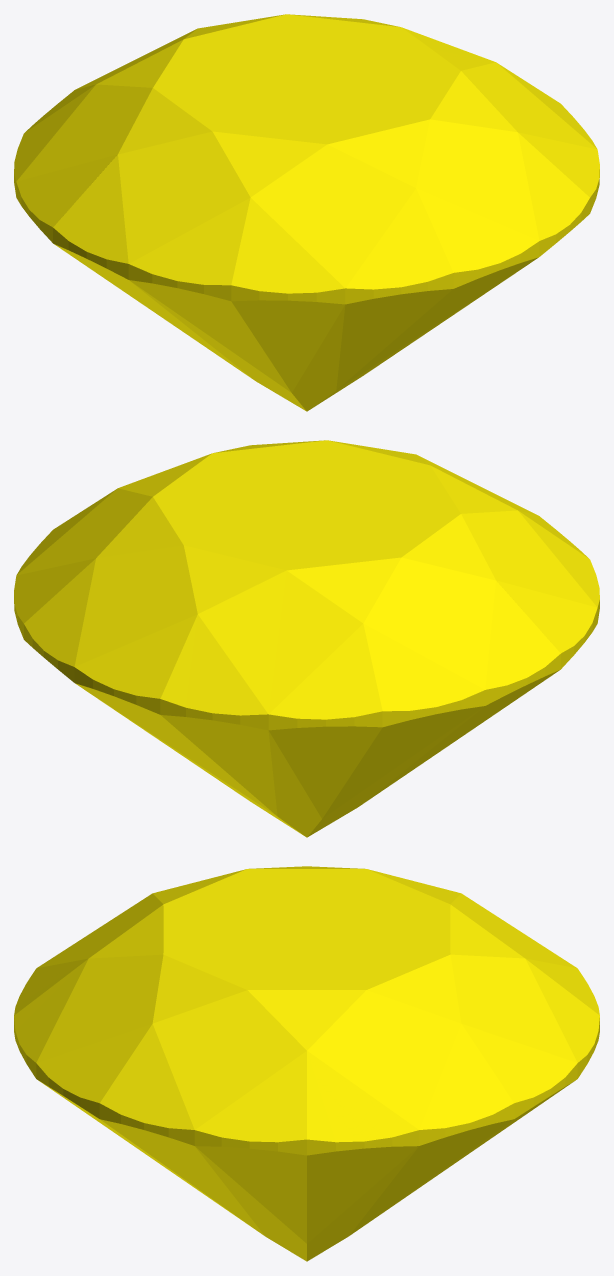
The model's file is RoundYellowSapph.glb.
3 renders of one model, top to bottom at view 1: azimuth 30°, elevation 25°; view 2: azimuth 150°, elevation 25°; view 3: azimuth 270°, elevation 25°, orthographic.
Parts seen in each view (by area): view 1: new twist dia for 3d model; view 2: new twist dia for 3d model; view 3: new twist dia for 3d model.
Boxes of the visible parts, box(x1,y1,x2,y2) form: new twist dia for 3d model: box(14, 14, 599, 411); new twist dia for 3d model: box(14, 440, 599, 837); new twist dia for 3d model: box(14, 866, 599, 1261).
Size of the model in its own units: 7.45 by 4.66 by 7.45.
